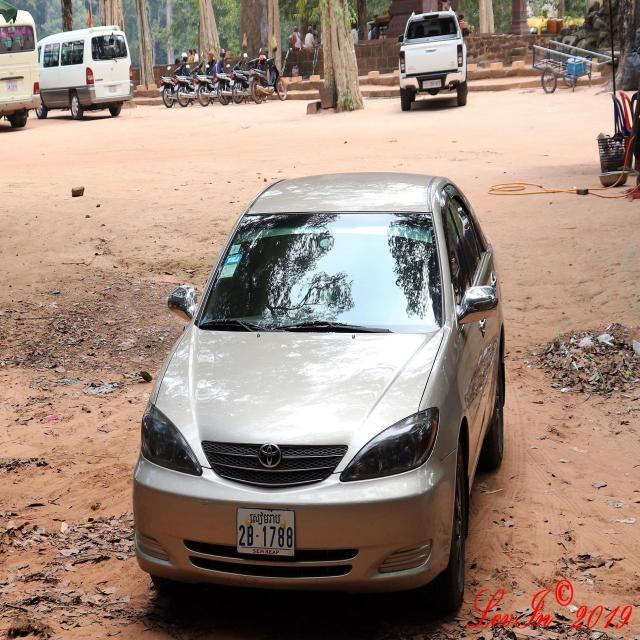Siem_Reap: (249, 511, 283, 526)
